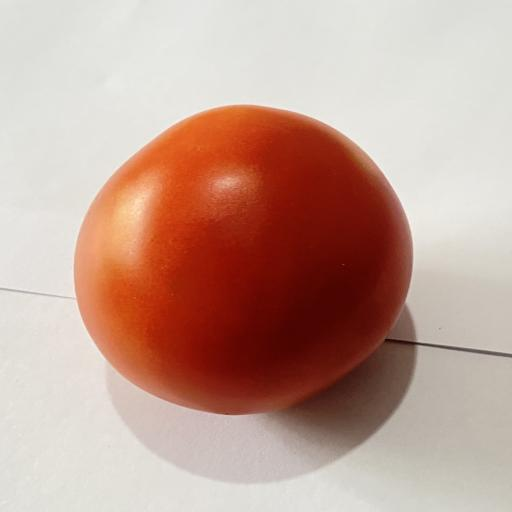ripe: (74, 105, 412, 414)
